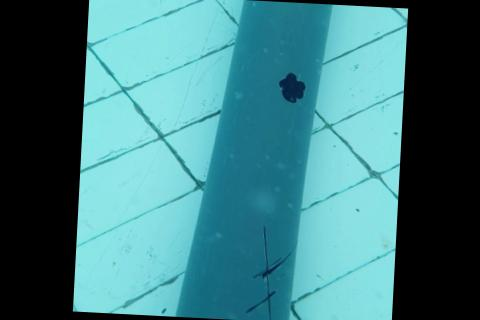kebocoran: (275, 71, 310, 104)
keretakan: (245, 224, 292, 320)
